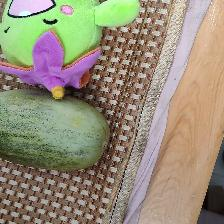gua: (7, 100, 106, 167)
